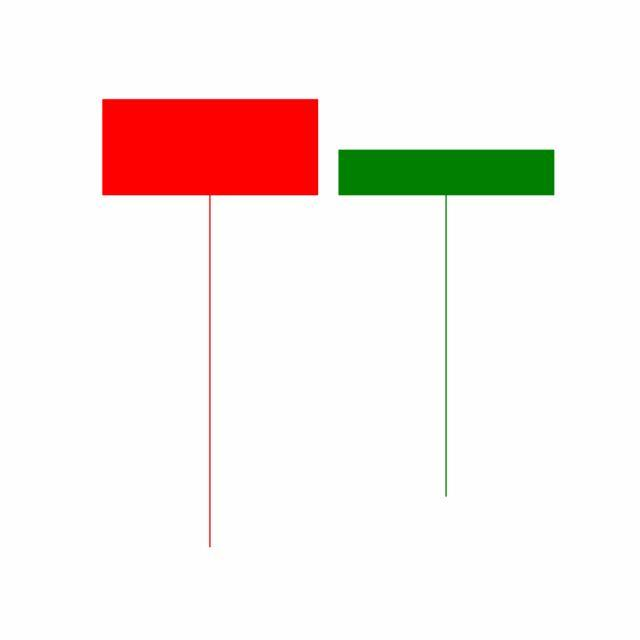Hanging Man: (328, 146, 566, 502)
